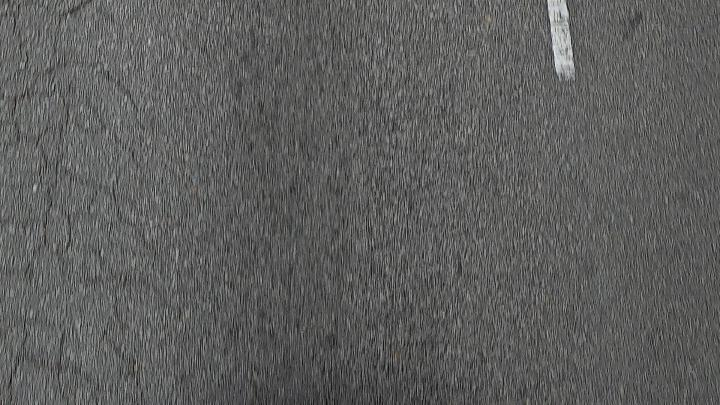Crack: (0, 0, 164, 405), (6, 0, 158, 404)
Lane: (546, 0, 582, 84), (546, 0, 574, 79)
